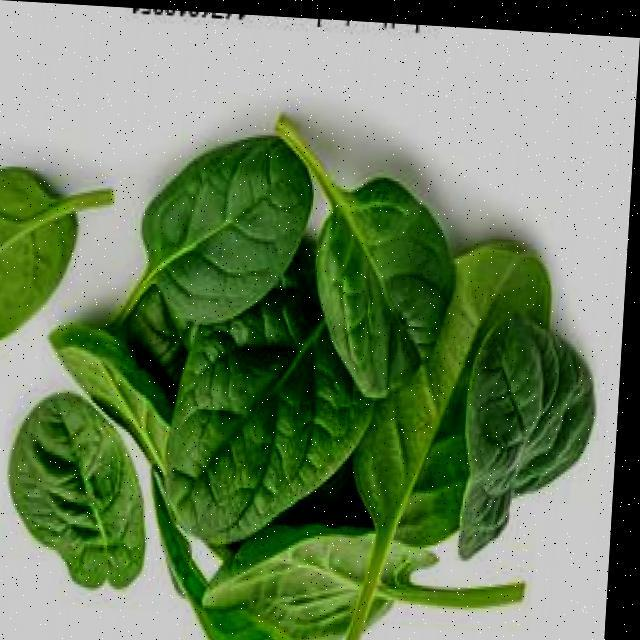Spinach: (0, 103, 618, 640)
